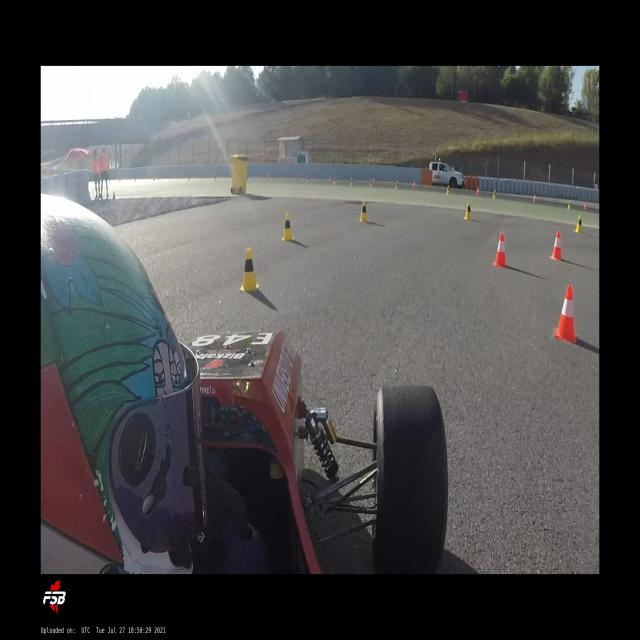orange_cone: (554, 285, 578, 345), (492, 233, 507, 268), (550, 231, 561, 261), (476, 186, 480, 196), (412, 180, 416, 189), (533, 194, 536, 203), (372, 177, 375, 184), (584, 202, 586, 210)
yellow_cone: (239, 248, 260, 292), (282, 213, 294, 241), (359, 201, 368, 223), (463, 202, 472, 220), (574, 214, 582, 233), (369, 178, 374, 188), (492, 190, 496, 200), (446, 185, 450, 195), (350, 177, 354, 187), (394, 180, 398, 189), (568, 201, 570, 210)
